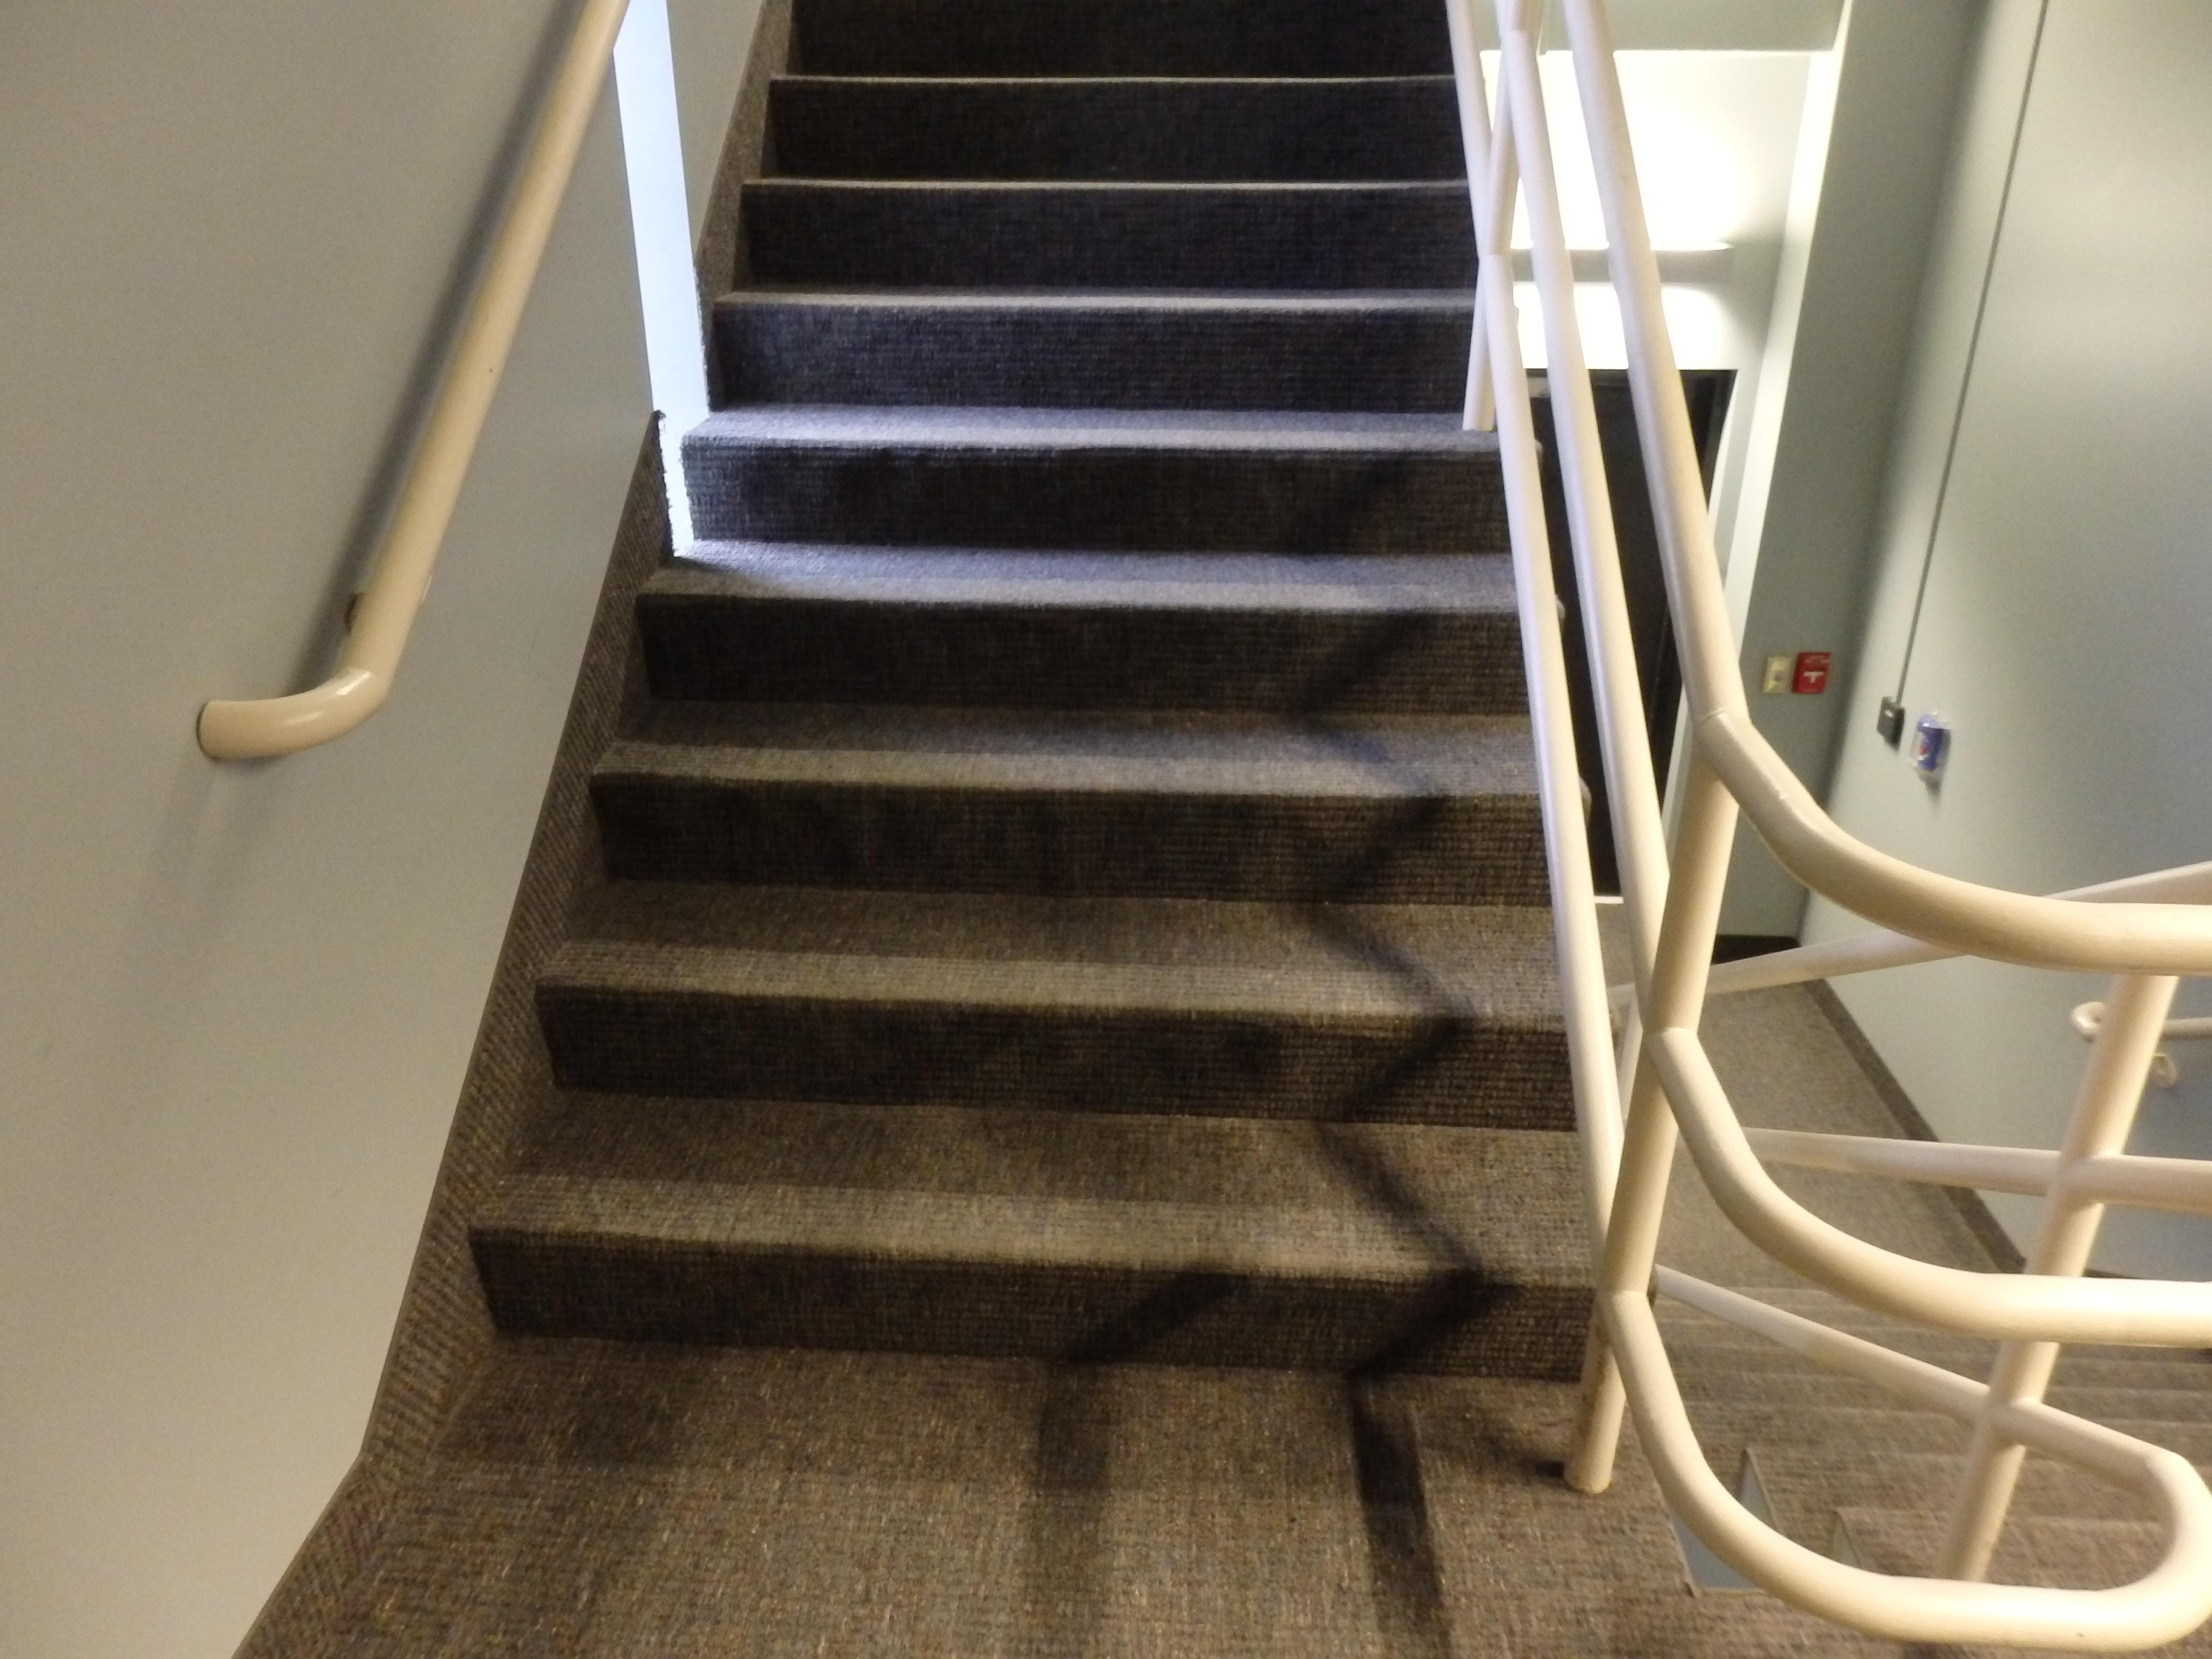stairs_up: (552, 31, 1519, 1413)
